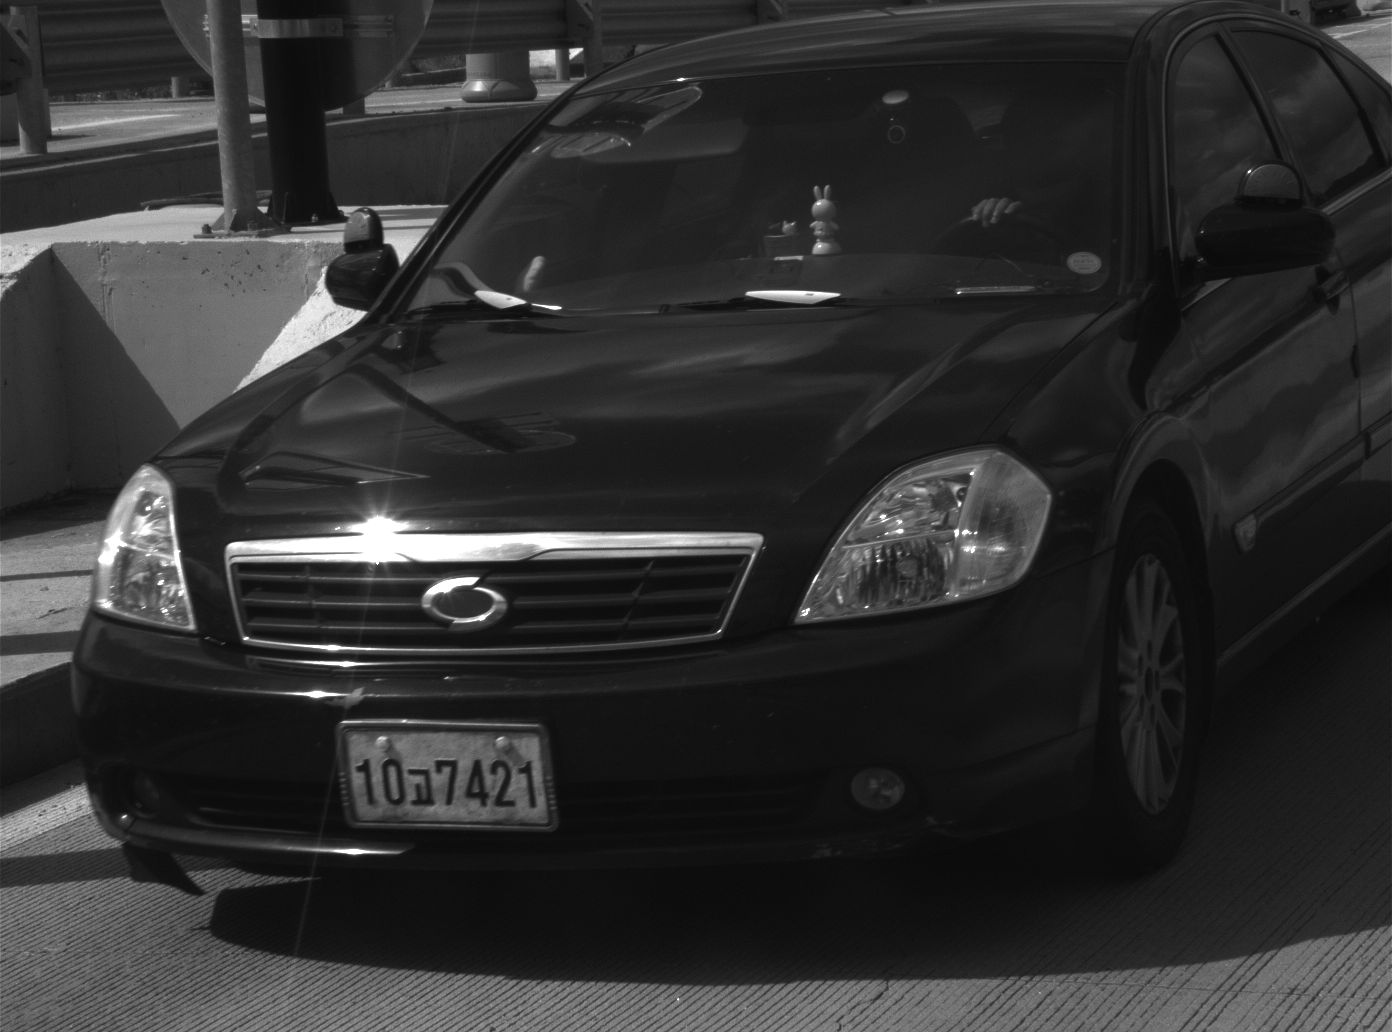car: (73, 1, 1390, 891)
plate: (332, 722, 555, 829)
